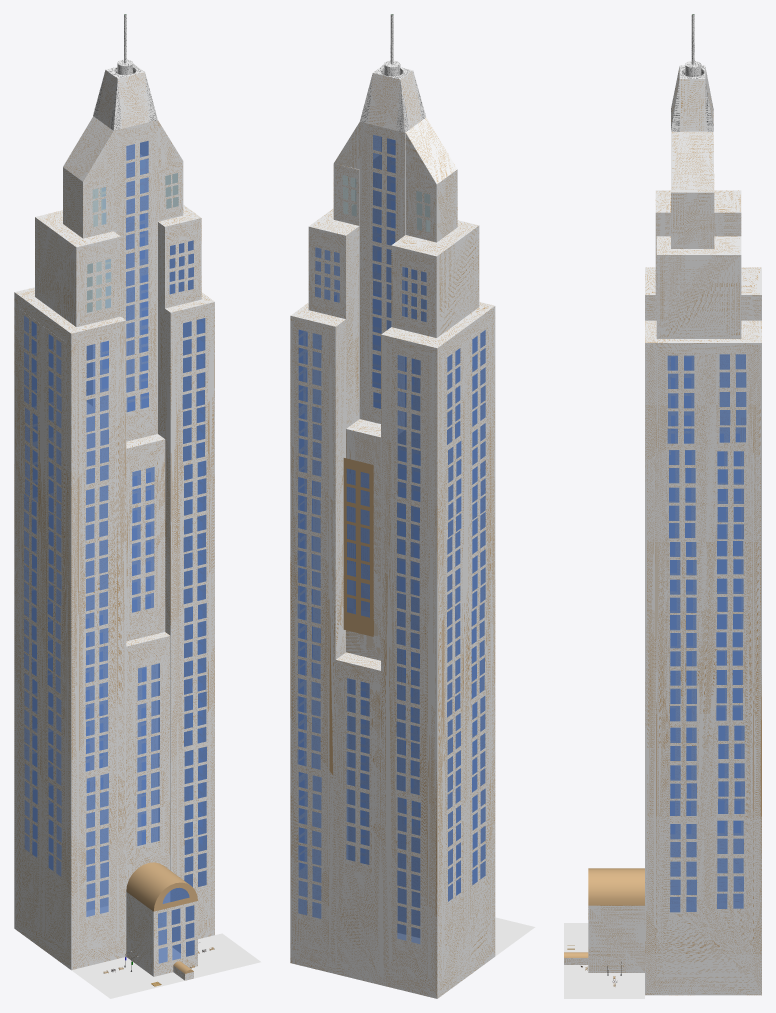
The picture shows the model from 3 angles, left to right: view 1: azimuth 30°, elevation 25°; view 2: azimuth 150°, elevation 25°; view 3: azimuth 270°, elevation 25°; orthographic projection. The views are drawn at different scales.
Visible parts, largest first — view 1: SketchUp (×13); view 2: SketchUp (×15); view 3: SketchUp (×4).
Part boxes in pixels (left/top/right/bottom): SketchUp (×13): left=14, top=70, right=260, bottom=998; SketchUp (×15): left=290, top=70, right=535, bottom=998; SketchUp (×4): left=564, top=67, right=761, bottom=998.
Size of the model in its own units: 2460 by 2707 by 14303.
34 materials, 2 textured.
